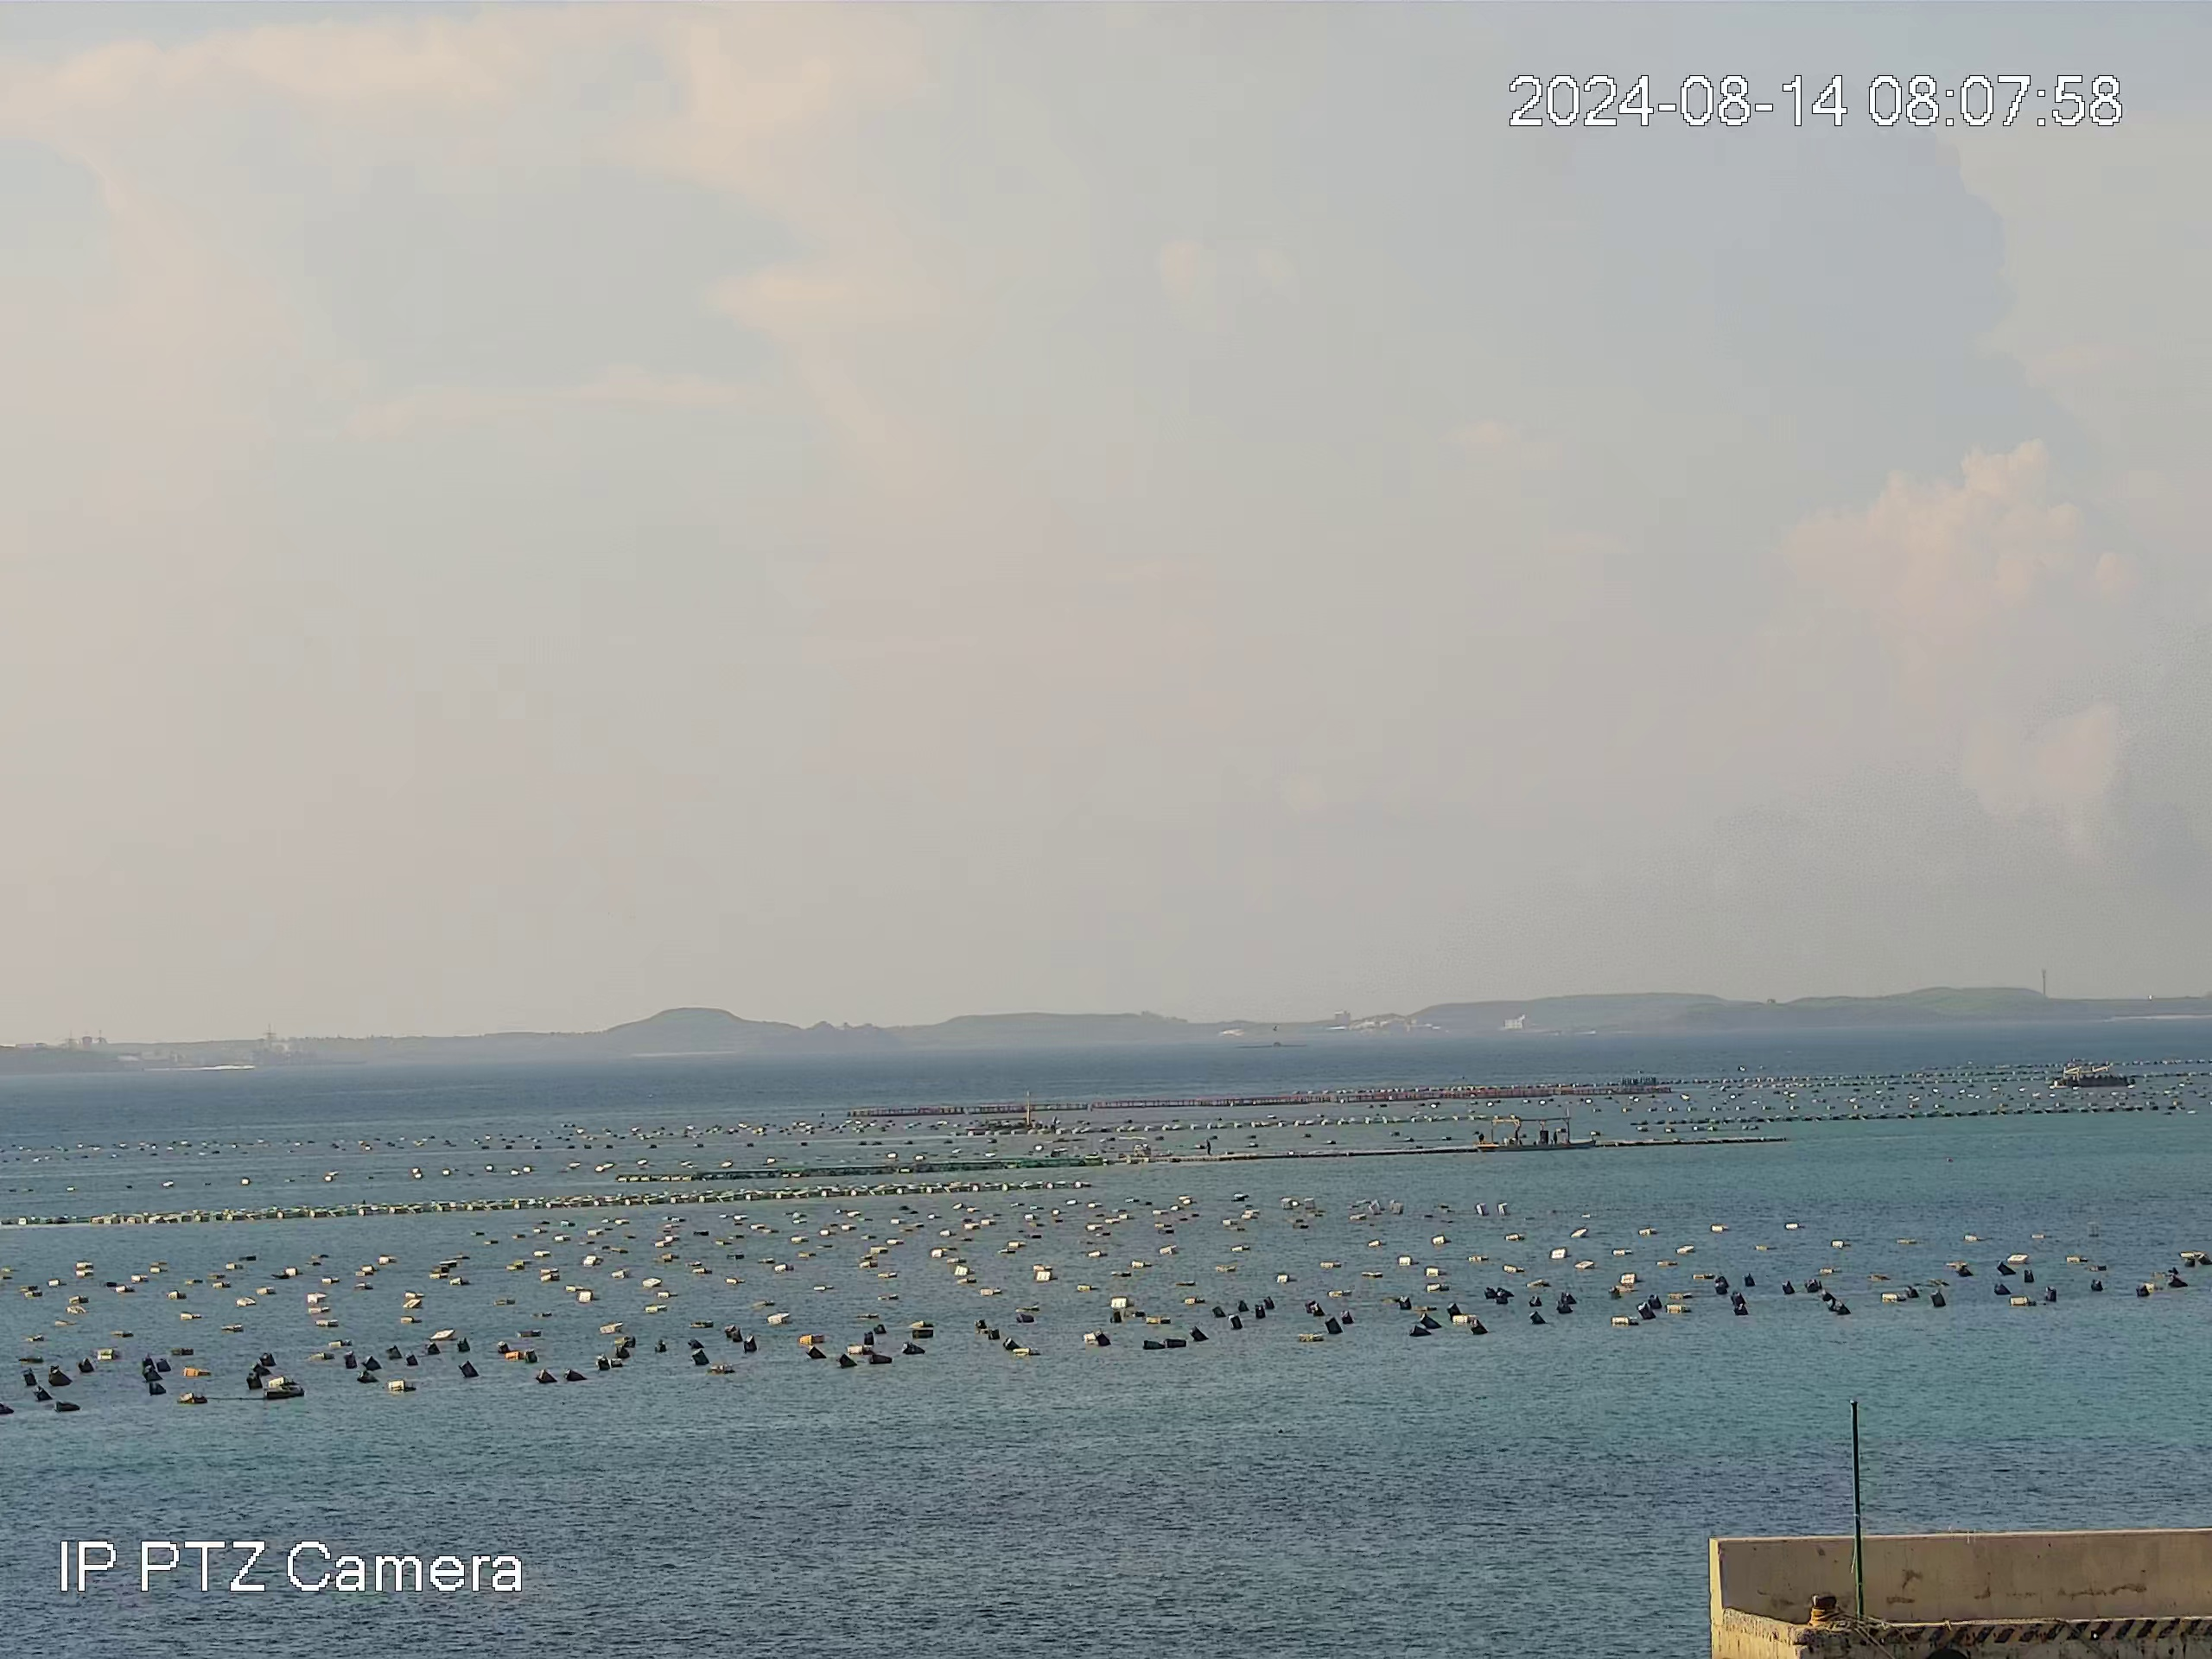boat: (1472, 1115, 1599, 1148), (2052, 1063, 2141, 1090)
